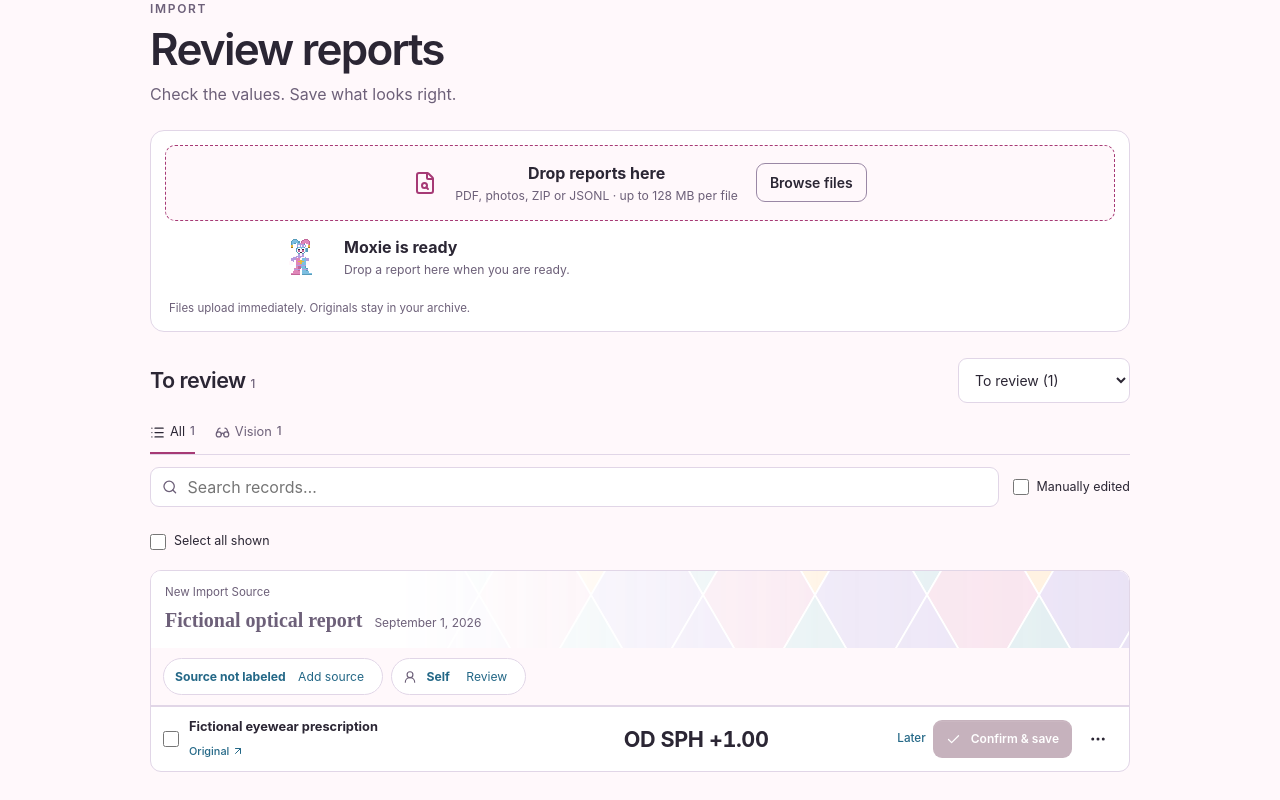
keeps an entered fictional source label and explains a refreshed scope that needs review
This screenshot has width=1280, height=800.
Step 1. Click the button "Source not labeled Add source" → [273, 677], box [163,658,382,695]
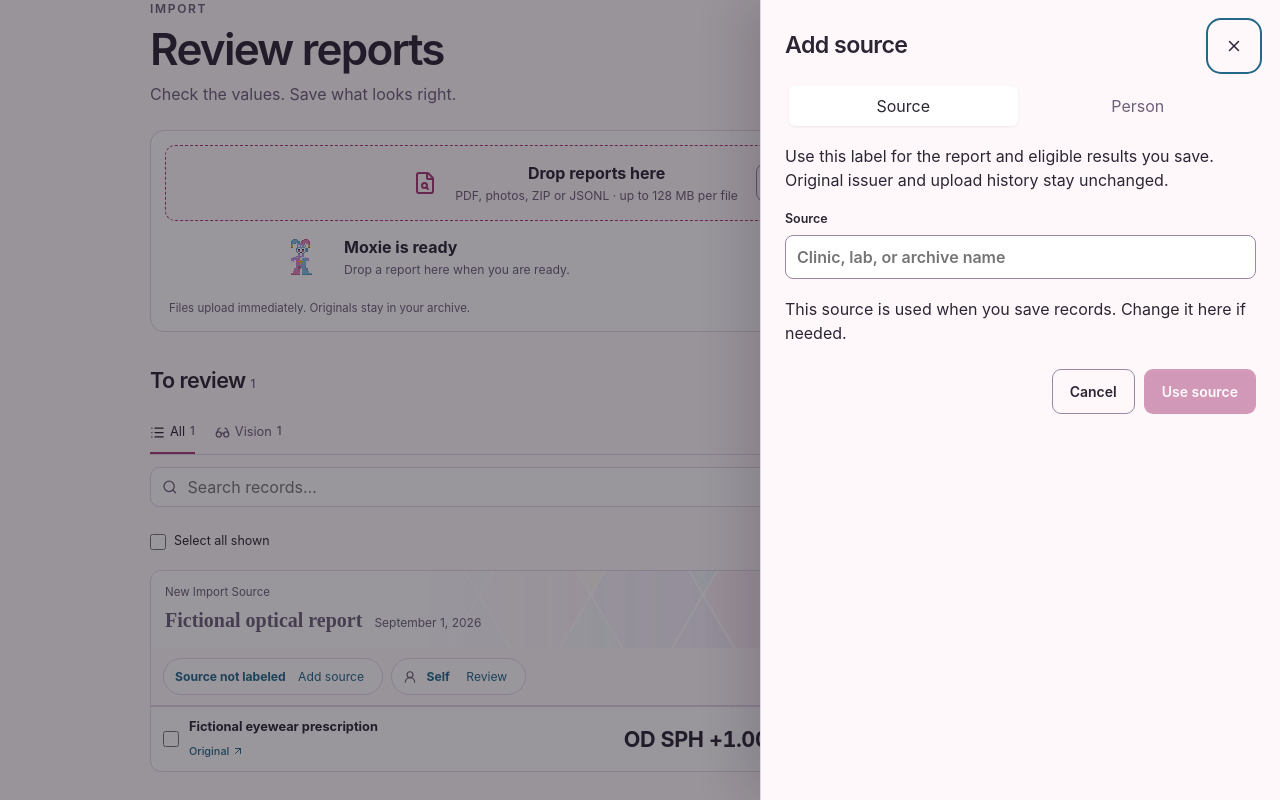
Expected: the text "This source is used when you save records" is shown, [785,299,1246,343]
Step 2. Type "Fictional Vision Center" into the field labelled "Source" → [1020, 257], box [785,235,1256,279]
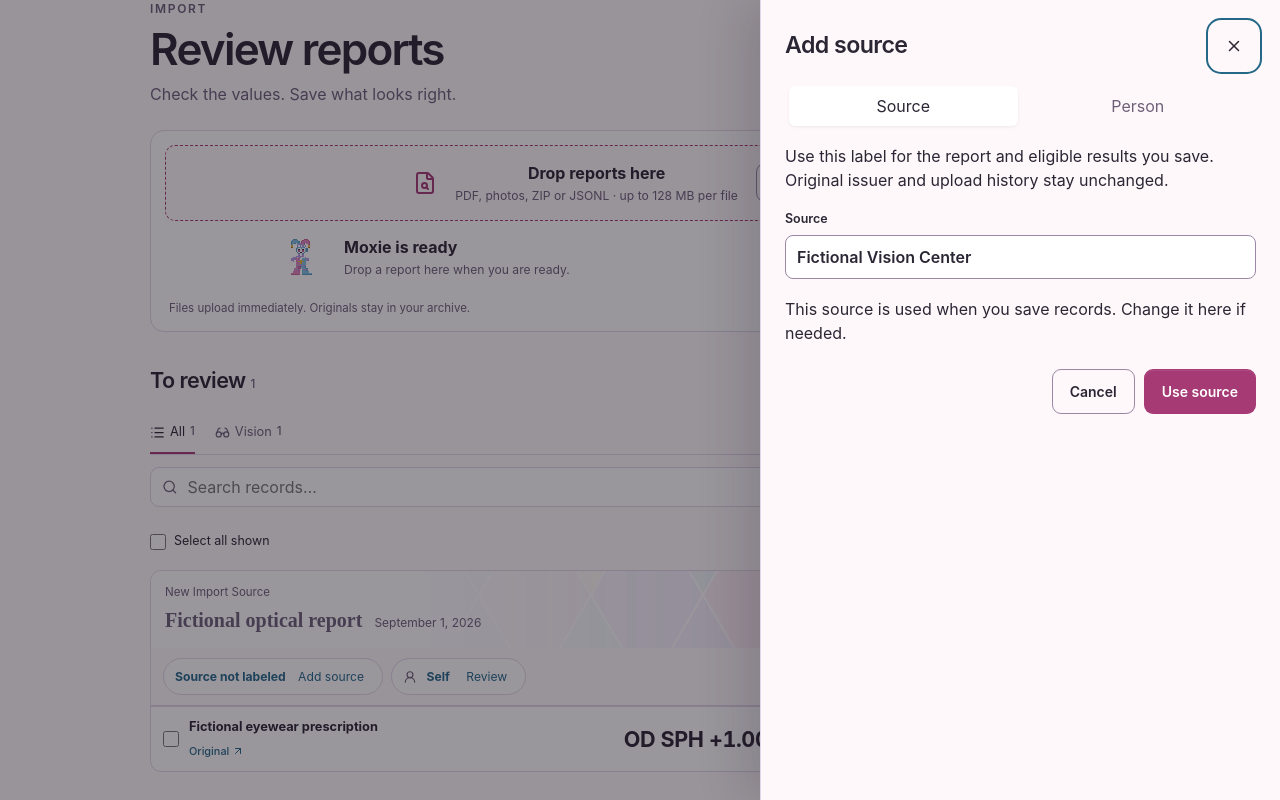
Step 3. Click the button "Use source" → [1200, 391], box [1144,369,1256,414]
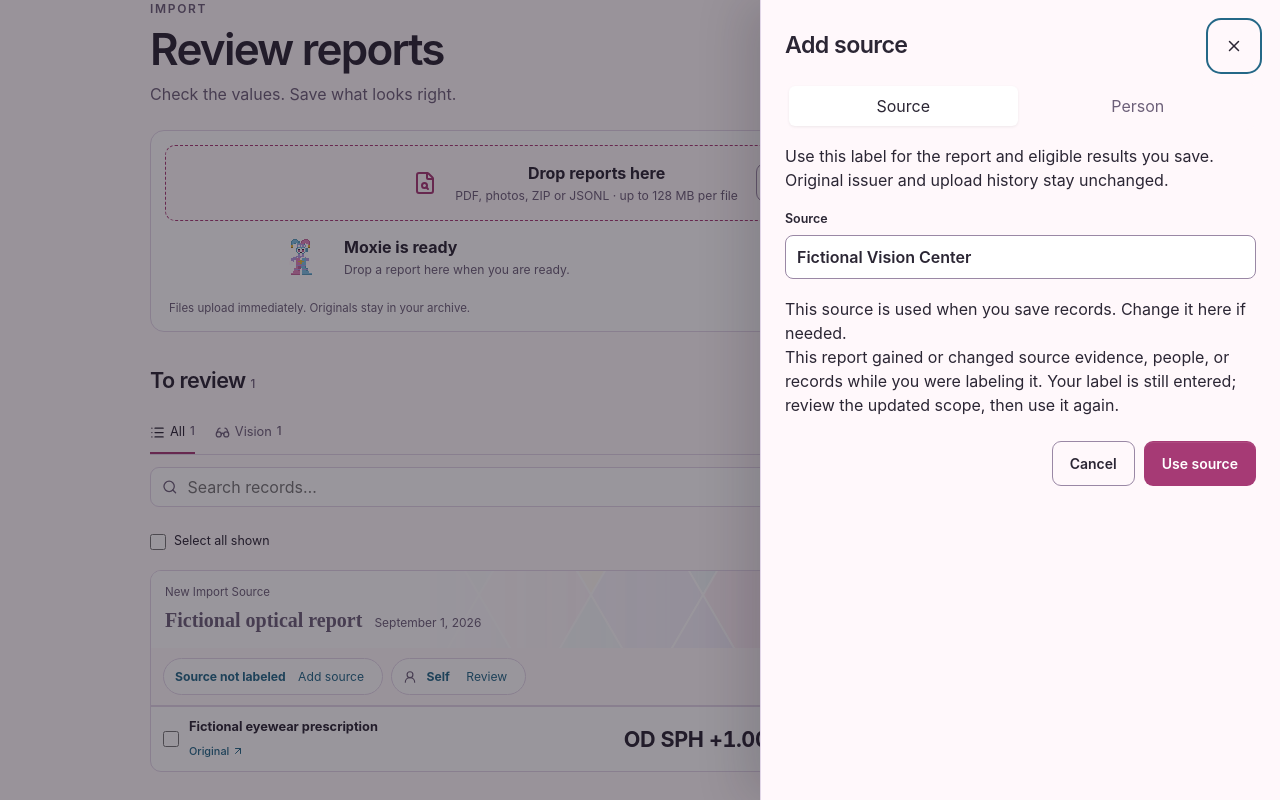
Expected: the dialog is shown, [760,0,1279,799]
Expected: the message shows "Your label is still entered", [785,347,1236,415]
